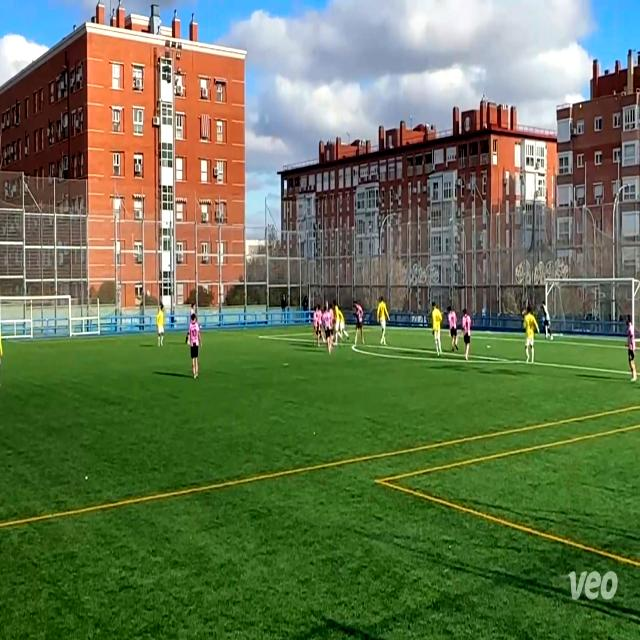bigarea_top_inner: (252, 326, 267, 348)
bottom_arc_area_intersection: (509, 352, 524, 371)
